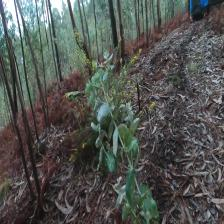trunktrack_idkeyframe: (3, 31, 42, 197), (66, 2, 92, 75), (48, 2, 62, 82), (108, 0, 120, 55)
